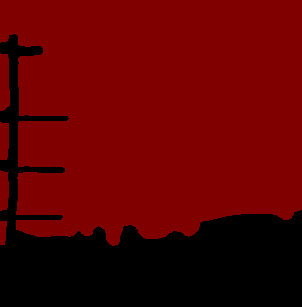Sky: (1, 1, 301, 306)
